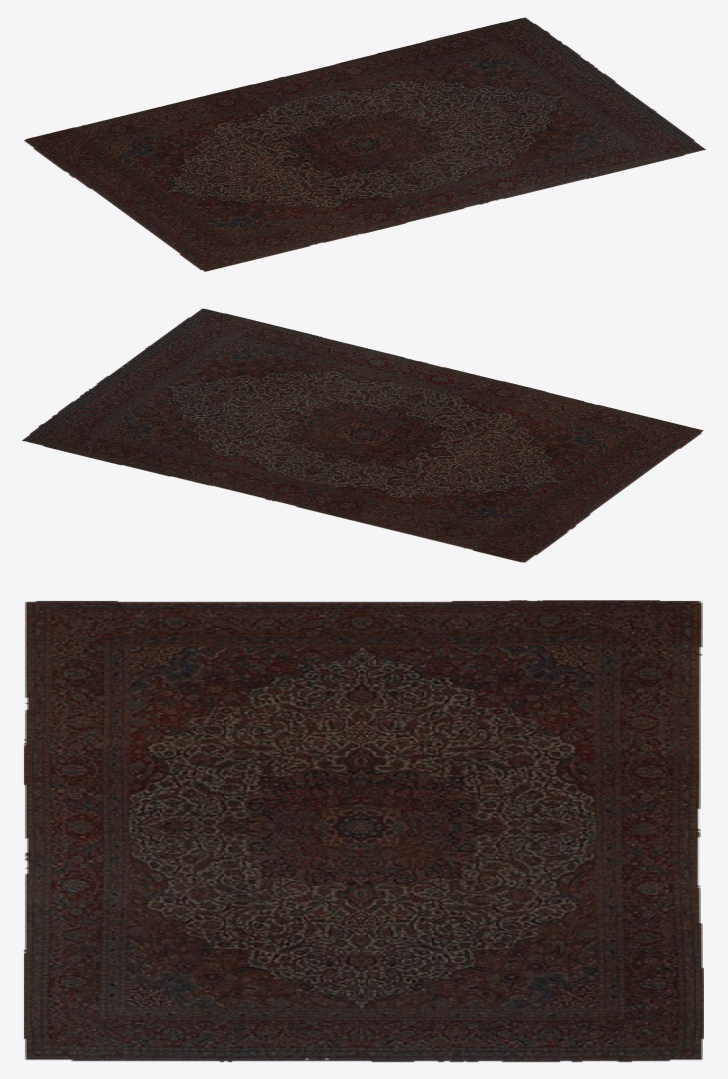
The model's file is carpet_mp_1.glb.
The picture shows the model from 3 angles, top to bottom: view 1: azimuth 30°, elevation 25°; view 2: azimuth 150°, elevation 25°; view 3: azimuth 270°, elevation 25°; orthographic projection. The views are drawn at different scales.
Visible parts, largest first — view 1: carpet_mp_1; view 2: carpet_mp_1; view 3: carpet_mp_1.
Boxes of the visible parts, left/top/right/bottom form: carpet_mp_1: left=24, top=17, right=705, bottom=271; carpet_mp_1: left=22, top=308, right=703, bottom=562; carpet_mp_1: left=24, top=600, right=703, bottom=1062.
Size of the model in its own units: 3.23 by 0.0102 by 2.04.
1 material, 1 textured.
